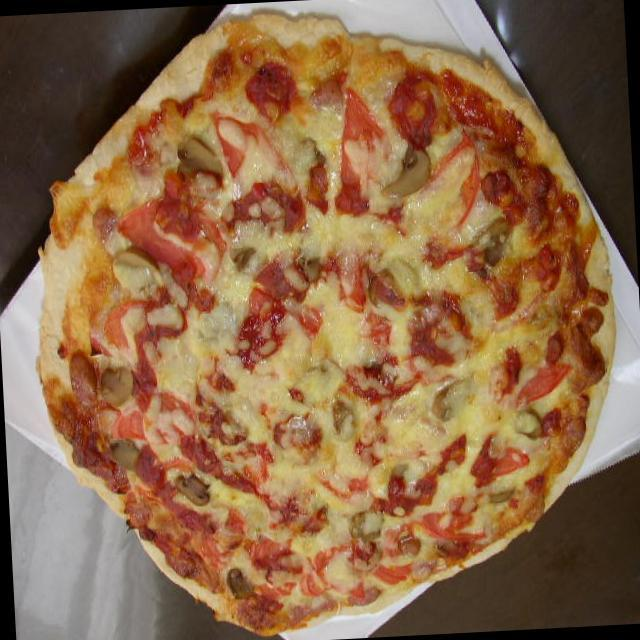Pizza: (25, 15, 628, 640)
